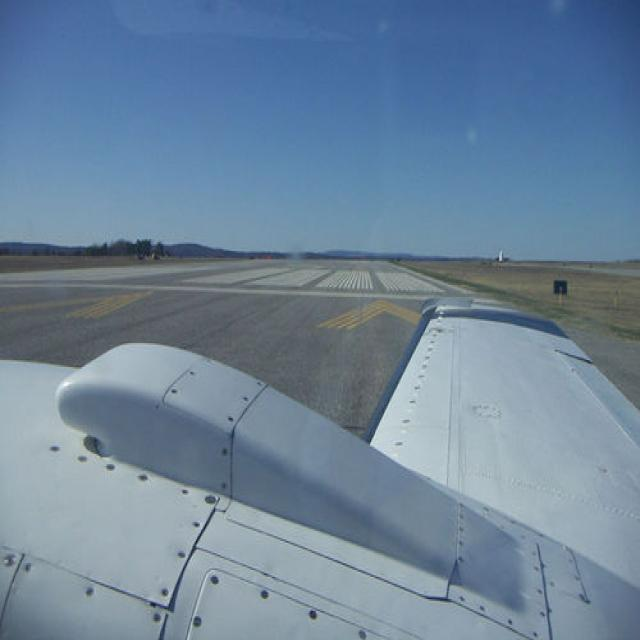aeroplane: (1, 297, 640, 640)
